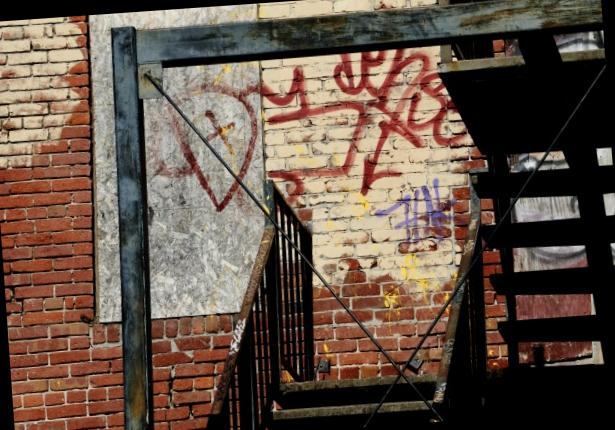graffiti: (259, 48, 471, 273)
